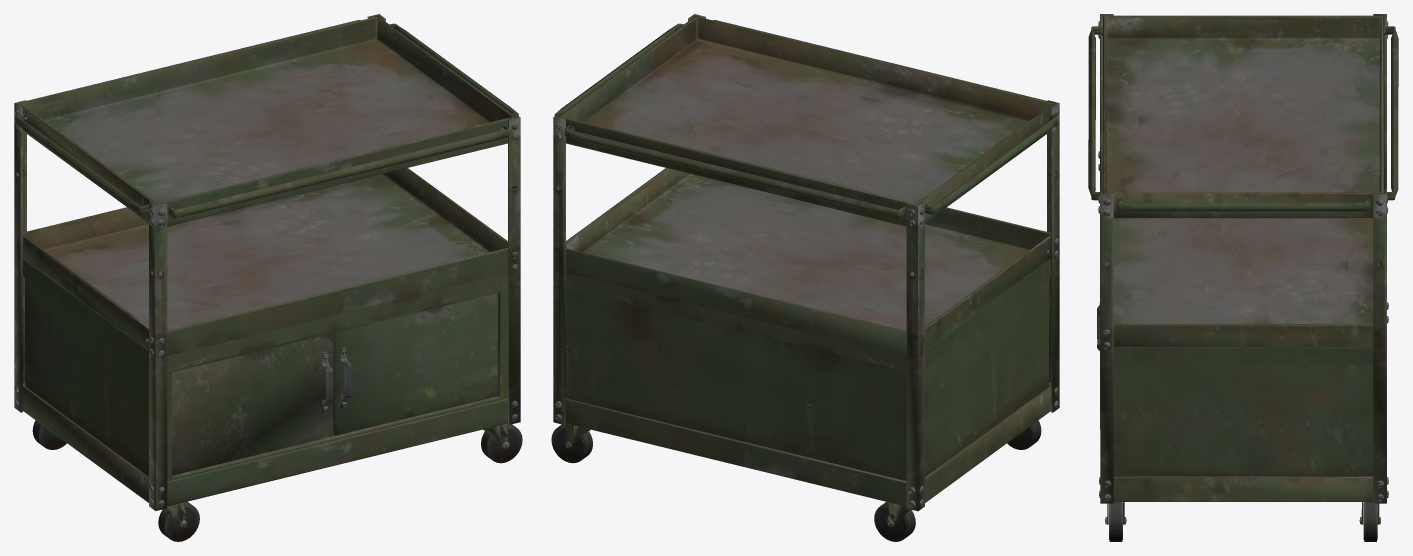
File: storage_cart.glb
3 renders of one model, left to right at view 1: azimuth 30°, elevation 25°; view 2: azimuth 150°, elevation 25°; view 3: azimuth 270°, elevation 25°, orthographic.
Visible parts, largest first — view 1: industrial_storage_cart; view 2: industrial_storage_cart; view 3: industrial_storage_cart.
Boxes of the visible parts, x1,y1,x2,y2 form: industrial_storage_cart: [14, 14, 522, 541]; industrial_storage_cart: [551, 14, 1059, 541]; industrial_storage_cart: [1088, 14, 1398, 541].
Size of the model in its own units: 1.6 by 1.38 by 1.1.
Materials: 1 (1 with a texture image).
